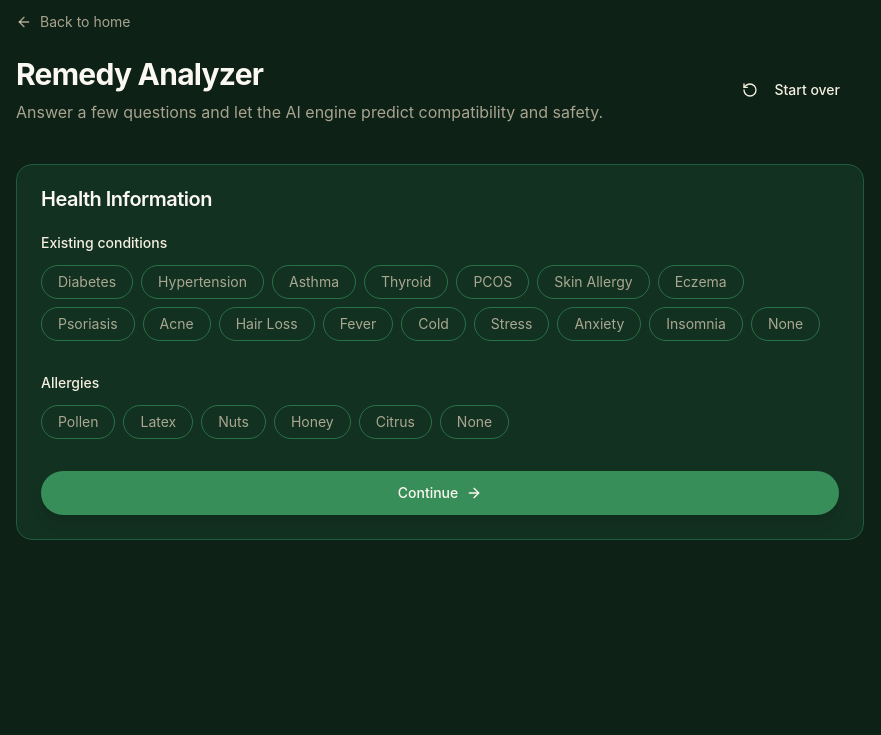
Test: RemedyForm › blocks analysis until at least two ingredients are selected
Click the button "Continue". click: (440, 493)
box: [41,471,839,515]
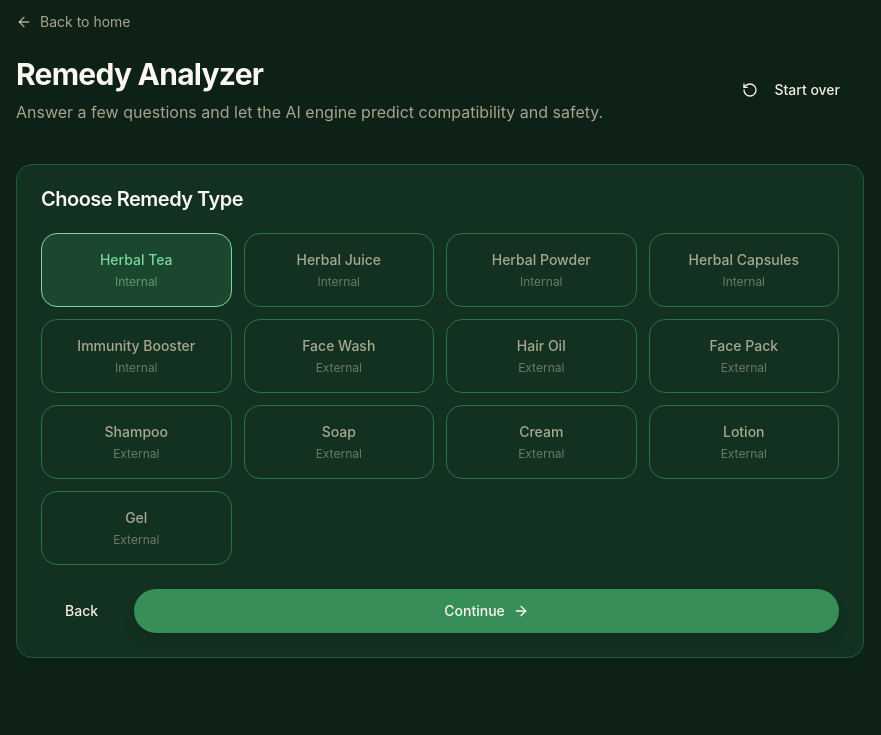
Click the button "Continue". click: (487, 611)
box: [134,589,839,633]
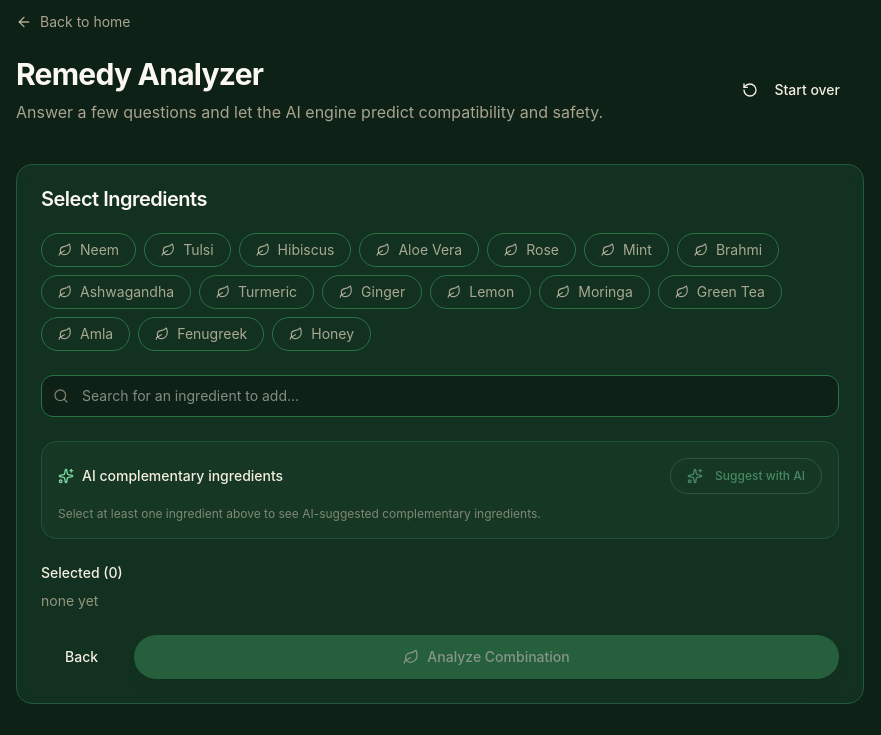
Click the button "Tulsi". click: (187, 250)
box: [144,233,231,267]
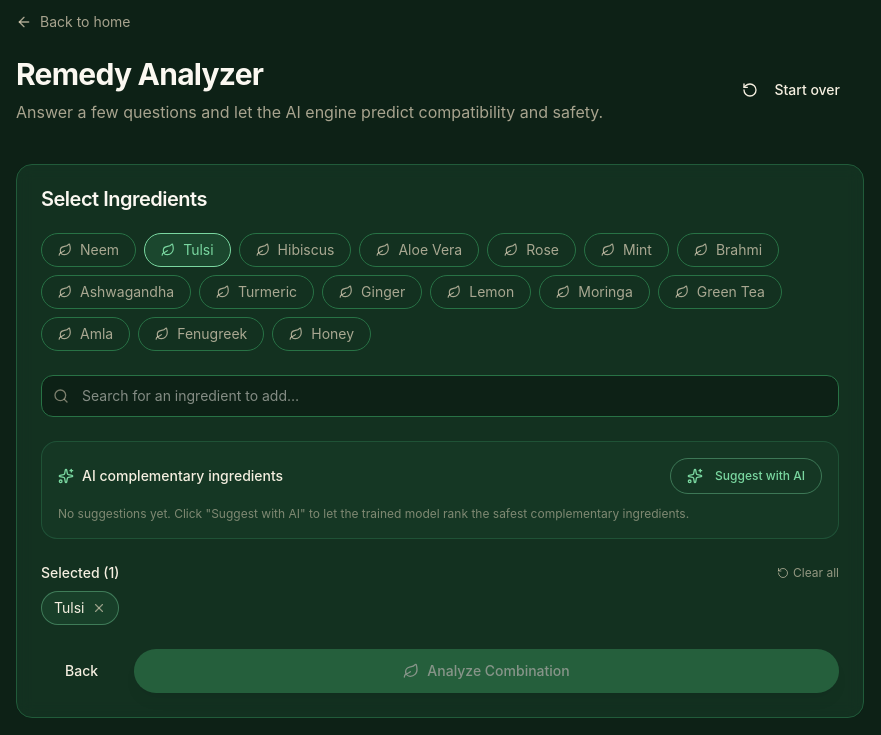
Expected: the button "Analyze Combination" is disabled, [134,649,839,693]
Click the button "Ginger". click: (372, 292)
box: [322,275,422,309]
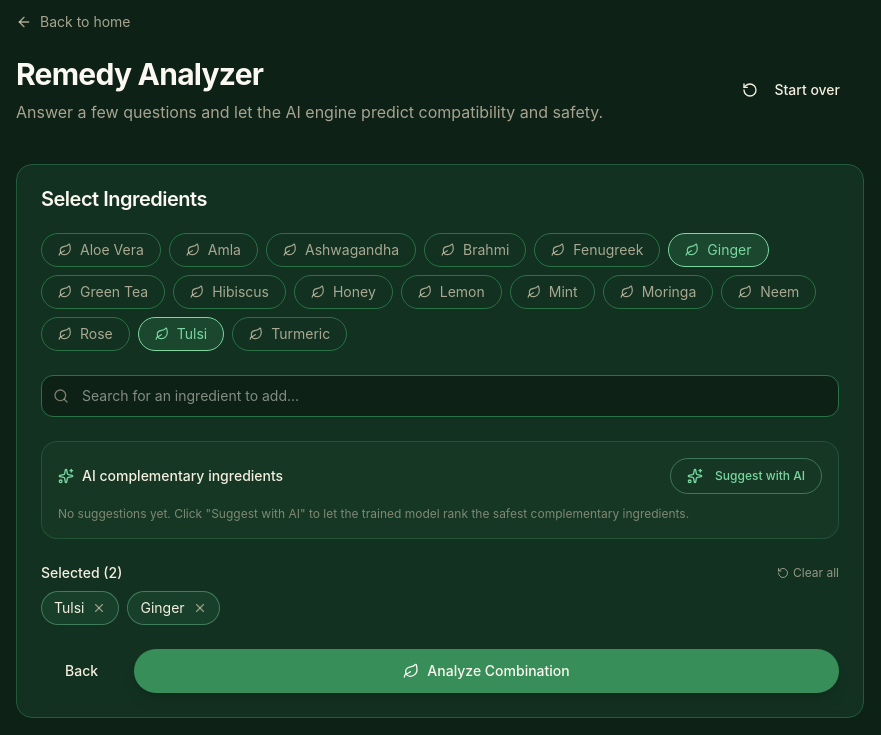
Expected: the button "Analyze Combination" is enabled, [134,649,839,693]
